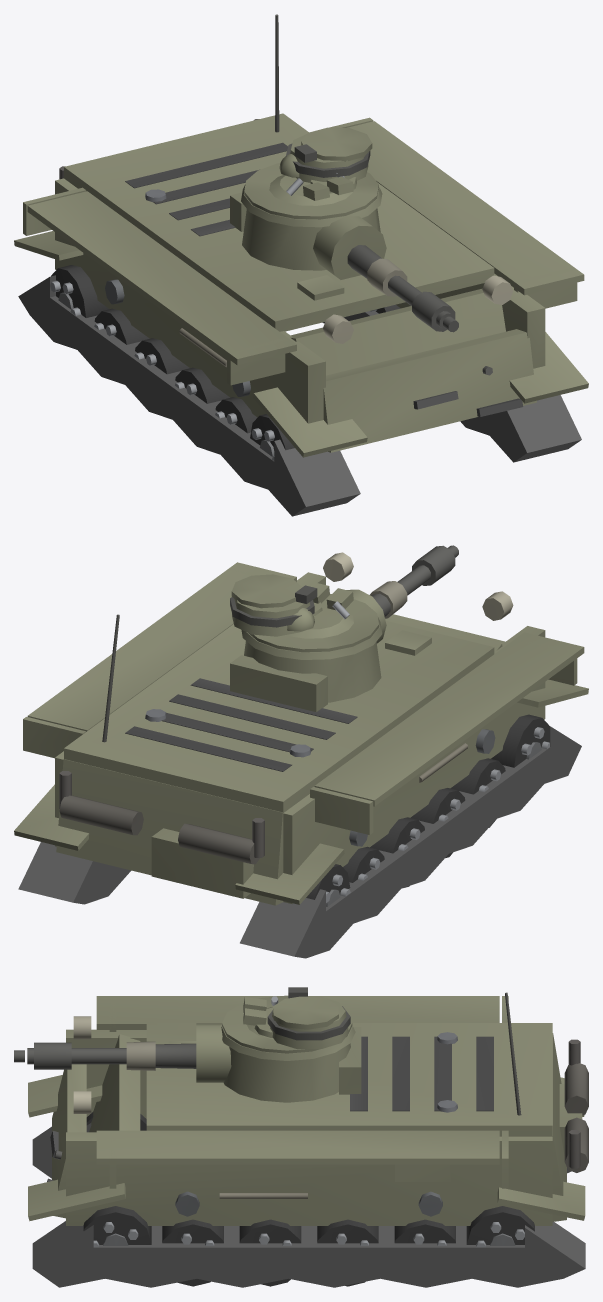
The model's file is m5stuart.glb.
3 views of the same model, one above another, from view 1: azimuth 30°, elevation 25°; view 2: azimuth 150°, elevation 25°; view 3: azimuth 270°, elevation 25° (orthographic). The views are drawn at different scales.
Parts seen in each view (by area): view 1: hullSide, hullTop, tracks, lowerPlate, glacis, turretRoof, turretFront, barrel, mantlet, wheel5, turretSide, wheel0 (+4 smaller); view 2: hullSide, hullTop, tracks, hullRear, turretRoof, turretRear, turretFront, barrel, wheel4, glacis, turretSide, wheel2 (+4 smaller); view 3: hullSide, tracks, hullTop, turretRoof, hullRear, turretFront, barrel, glacis, lowerPlate, wheel11, wheel10, mantlet (+6 smaller).
Boxes of the visible parts, <box> form: hullSide: <box>23,117,584,423</box>; hullTop: <box>64,113,494,331</box>; tracks: <box>14,231,588,516</box>; lowerPlate: <box>323,329,536,452</box>; glacis: <box>291,275,523,416</box>; turretRoof: <box>244,127,378,219</box>; turretFront: <box>242,208,380,270</box>; barrel: <box>347,245,458,332</box>; mantlet: <box>313,216,386,279</box>; wheel5: <box>50,265,109,317</box>; turretSide: <box>241,184,382,227</box>; wheel0: <box>94,308,149,344</box>; hullSide: <box>23,552,584,903</box>; hullTop: <box>64,621,494,812</box>; tracks: <box>14,679,588,958</box>; hullRear: <box>56,614,285,905</box>; turretRoof: <box>230,574,378,652</box>; turretRear: <box>230,655,327,712</box>; turretFront: <box>244,641,381,702</box>; barrel: <box>370,545,458,618</box>; wheel4: <box>491,714,549,767</box>; glacis: <box>385,616,502,655</box>; turretSide: <box>241,616,382,659</box>; wheel2: <box>410,788,465,858</box>; hullSide: <box>66,996,552,1225</box>; tracks: <box>28,1075,585,1287</box>; hullTop: <box>146,1023,552,1136</box>; turretRoof: <box>222,987,352,1053</box>; hullRear: <box>505,992,588,1221</box>; turretFront: <box>223,1043,350,1102</box>; barrel: <box>14,1041,196,1070</box>; glacis: <box>47,1034,196,1181</box>; lowerPlate: <box>52,1064,86,1218</box>; wheel11: <box>466,1206,534,1247</box>; wheel10: <box>83,1206,151,1247</box>; mantlet: <box>196,1023,231,1082</box>.
Size of the model in its own units: 3.48 by 2.7 by 5.2.
